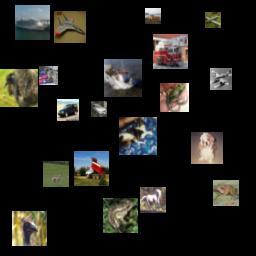airplane: (54, 11, 86, 43), (210, 68, 232, 90), (205, 12, 221, 28)
automobile: (57, 99, 79, 121), (91, 101, 107, 117)
bird: (0, 69, 38, 107), (12, 211, 47, 246)
cat: (119, 117, 157, 155)
deer: (43, 161, 69, 187)
dog: (191, 132, 223, 164)
frog: (103, 198, 138, 233), (160, 83, 189, 112), (213, 180, 239, 206)
ship: (104, 59, 142, 97), (15, 5, 50, 40)
truck: (153, 34, 188, 69), (74, 151, 109, 186), (145, 8, 161, 24)
